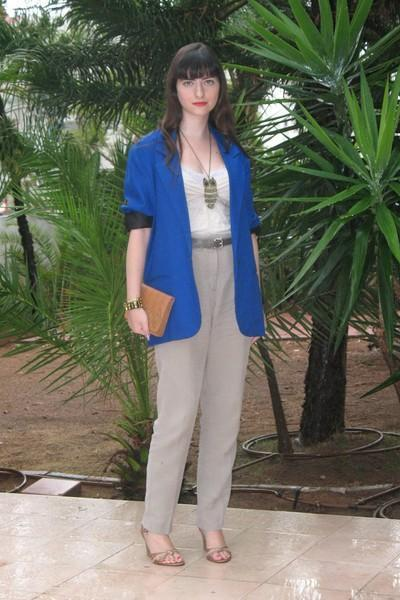bag: (136, 278, 173, 338)
jacket: (121, 128, 272, 344)
pants: (139, 252, 251, 537)
shirt: (183, 161, 230, 235)
shoe: (146, 531, 228, 575)
